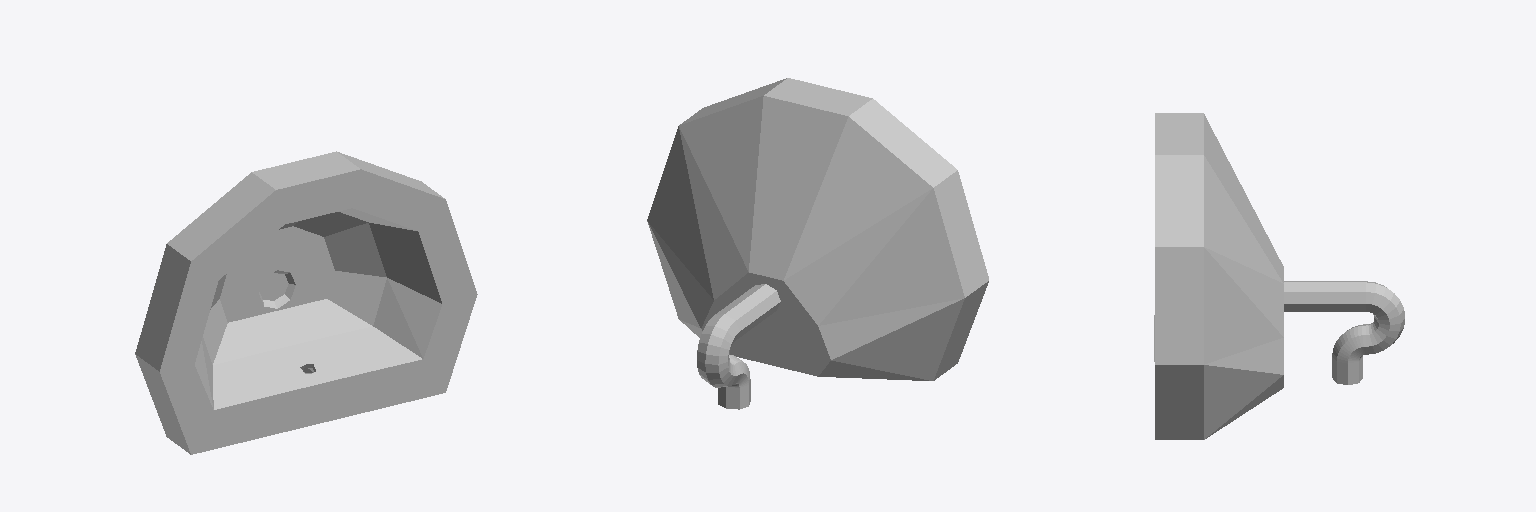
File: pcity_nodes_sink.obj
The picture shows the model from 3 angles: view 1: azimuth 30°, elevation 25°; view 2: azimuth 150°, elevation 25°; view 3: azimuth 270°, elevation 25°; orthographic projection.
Parts seen in each view (by area): view 1: Sink_export; view 2: Sink_export; view 3: Sink_export.
Part boxes in pixels (bbox=[...]): Sink_export: bbox=[135, 151, 477, 454]; Sink_export: bbox=[647, 78, 988, 409]; Sink_export: bbox=[1154, 113, 1404, 439].
Bounding box in the file's own units: 1.62 × 1.19 × 1.11.